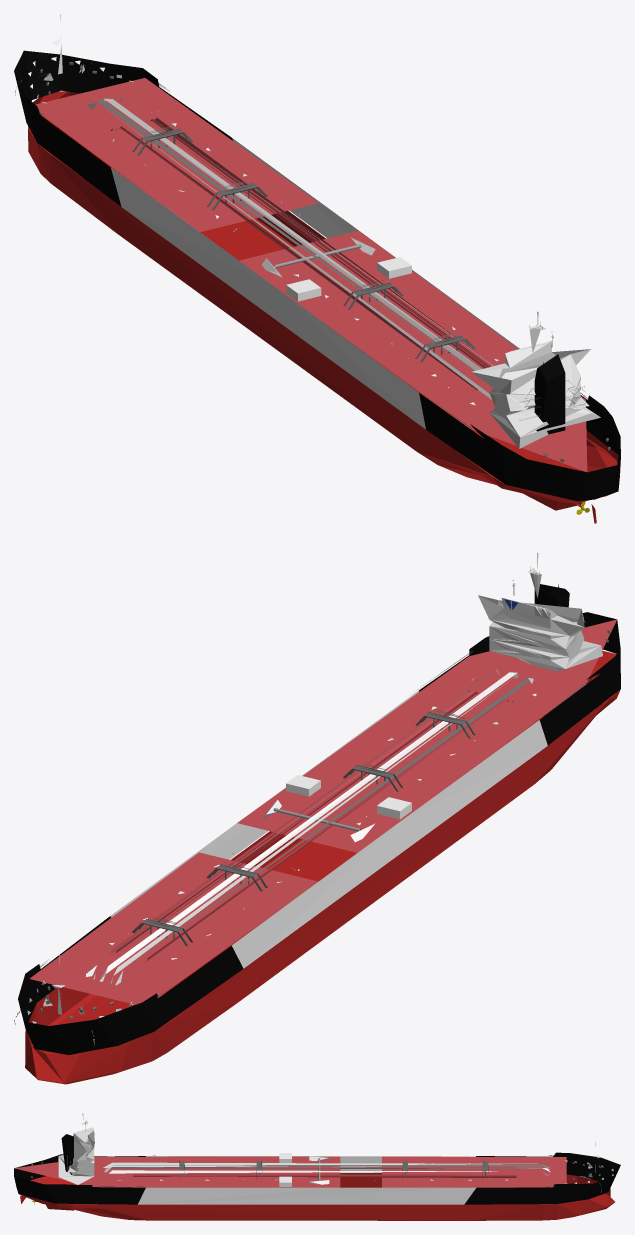
3 views of the same model, one above another, from view 1: azimuth 30°, elevation 25°; view 2: azimuth 150°, elevation 25°; view 3: azimuth 270°, elevation 25° (orthographic). The views are drawn at different scales.
Parts seen in each view (by area): view 1: Object_4, Object_7, Object_5, Object_6, Object_18, Object_12, Object_32; view 2: Object_4, Object_7, Object_5, Object_6, Object_18, Object_12, Object_32; view 3: Object_4, Object_7, Object_5, Object_6, Object_18, Object_12, Object_32.
Boxes of the visible parts, left/top/right/bottom form: Object_4: left=35, top=78, right=587, bottom=471; Object_7: left=28, top=91, right=620, bottom=523; Object_5: left=14, top=50, right=620, bottom=501; Object_6: left=111, top=138, right=519, bottom=429; Object_18: left=87, top=97, right=493, bottom=399; Object_12: left=472, top=311, right=600, bottom=448; Object_32: left=16, top=62, right=610, bottom=461; Object_4: left=29, top=619, right=616, bottom=1004; Object_7: left=25, top=650, right=620, bottom=1084; Object_5: left=18, top=584, right=620, bottom=1054; Object_6: left=110, top=690, right=547, bottom=968; Object_18: left=86, top=669, right=533, bottom=985; Object_12: left=478, top=552, right=602, bottom=671; Object_32: left=16, top=583, right=610, bottom=1036; Object_4: left=15, top=1156, right=566, bottom=1187; Object_7: left=20, top=1173, right=614, bottom=1220; Object_5: left=14, top=1134, right=620, bottom=1204; Object_6: left=138, top=1156, right=475, bottom=1204; Object_18: left=103, top=1153, right=550, bottom=1186; Object_12: left=58, top=1113, right=94, bottom=1184; Object_32: left=30, top=1135, right=601, bottom=1187.
Size of the model in its own units: 20.06 by 27.15 by 161.
